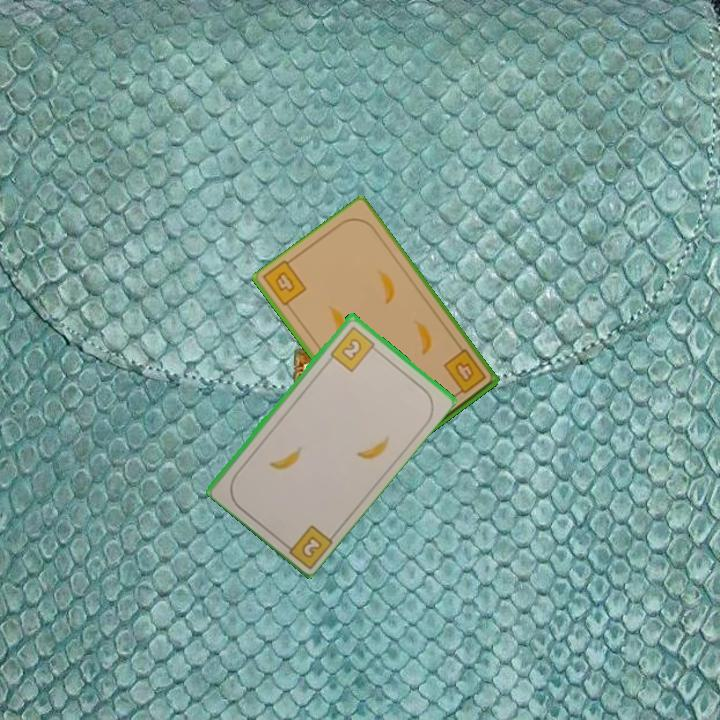2b: (326, 322, 381, 374), (278, 521, 336, 569)
4b: (440, 346, 489, 400), (271, 268, 297, 295)
